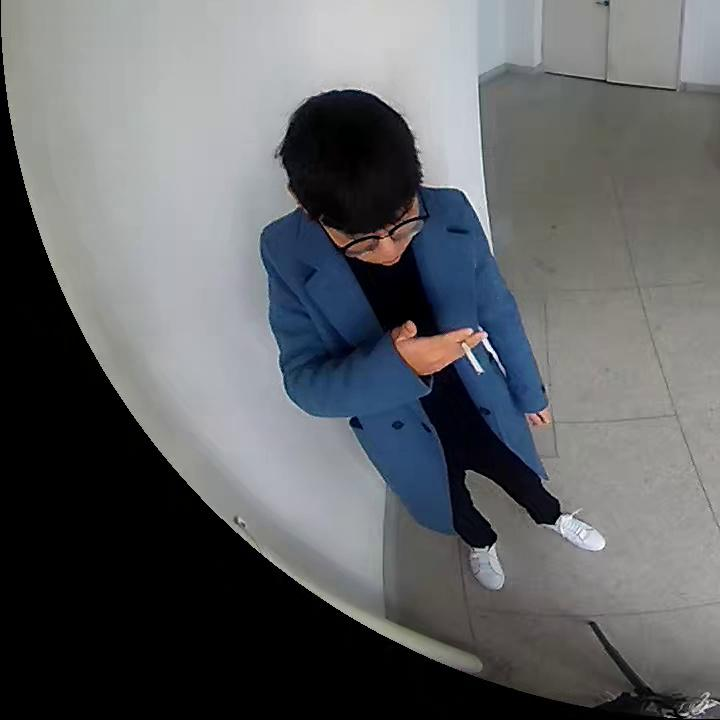handsmoke: (397, 318, 485, 376)
handwithoutsmoke: (527, 403, 557, 430)
mouthwithoutsmoke: (286, 89, 428, 267)
